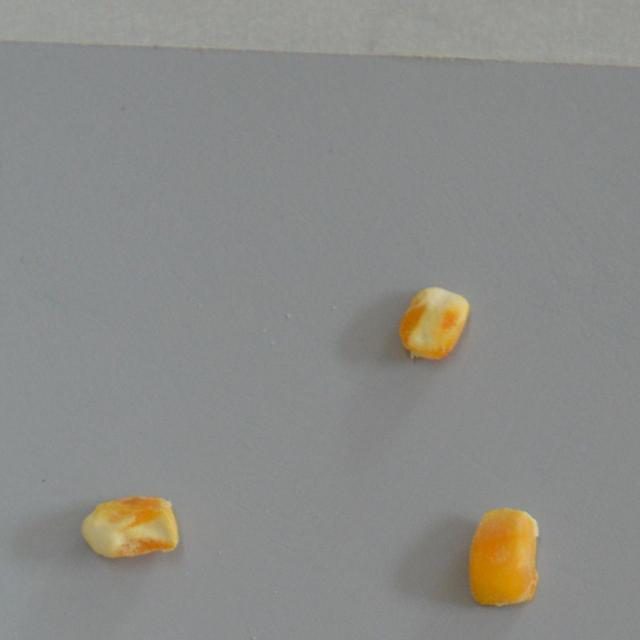pelicula: (462, 506, 543, 608), (80, 494, 181, 558), (397, 288, 474, 360)
